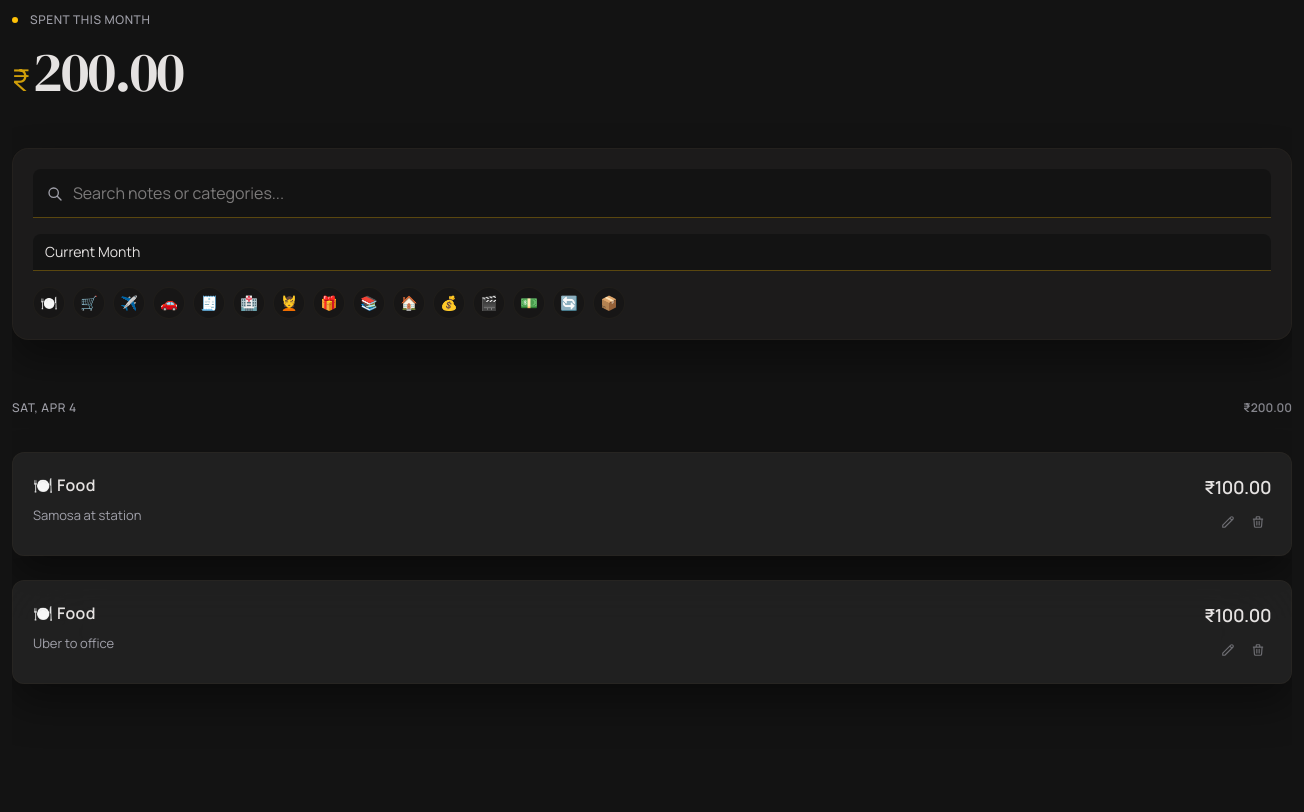
Scenario: ExpenseList › filters by search term in notes
The width and height of the screenshot is (1304, 812).
Type "samosa" into the field with placeholder "Search notes or categories..." at (652, 194), box [33,169,1271,218]
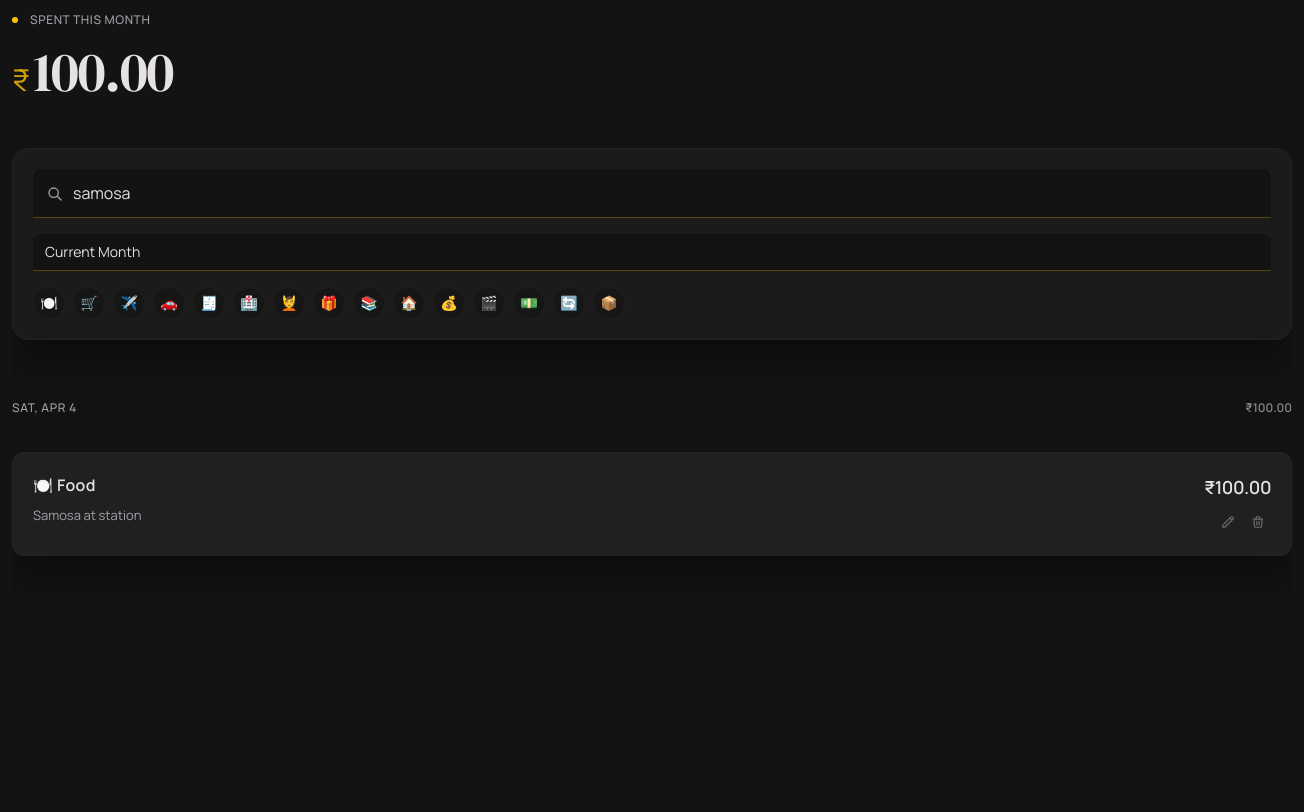
Check: the text "Samosa at station" is shown, box [33,506,141,524]
Check: the text "Uber to office" is gone
